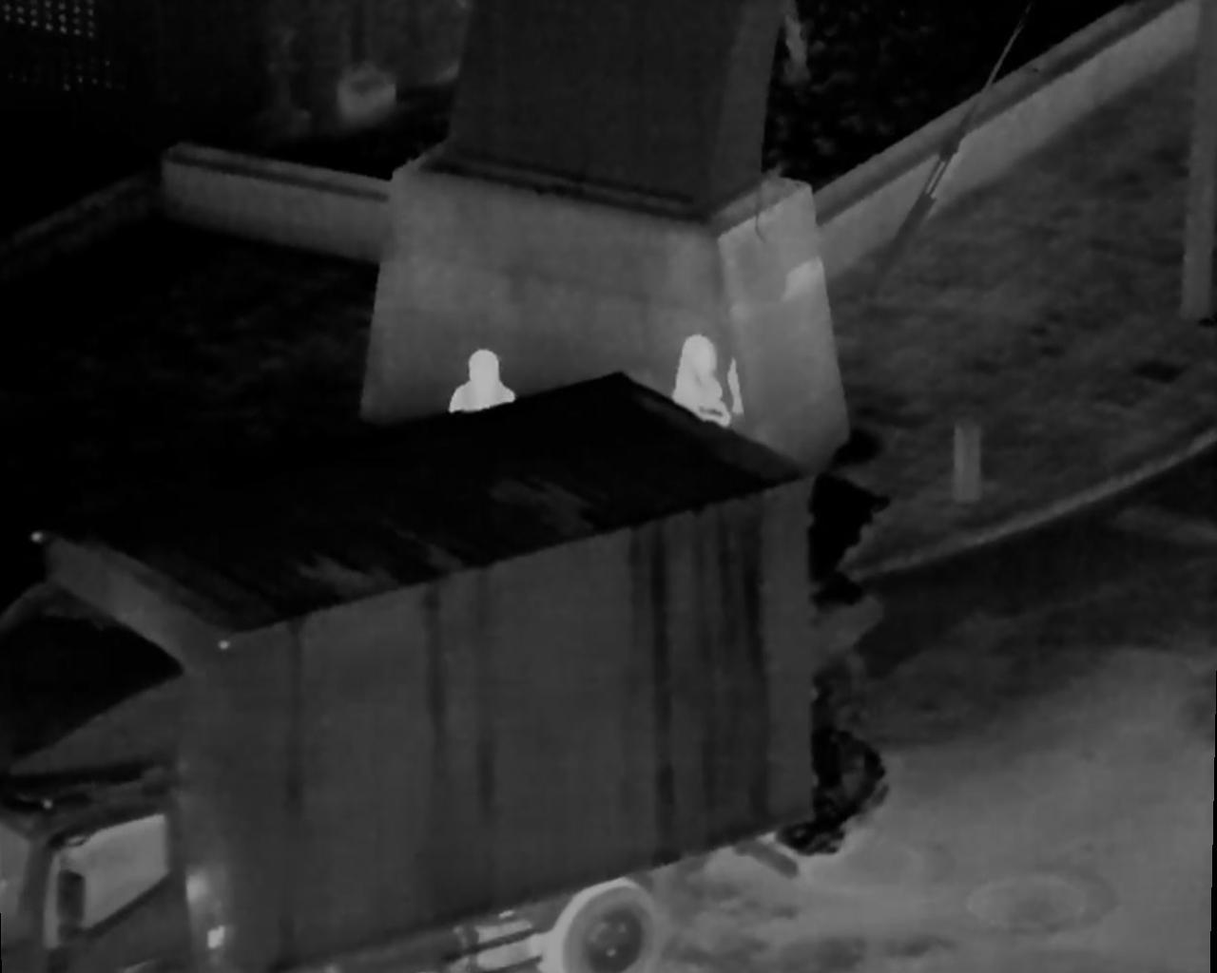person: (670, 329, 746, 443), (449, 350, 515, 419)
